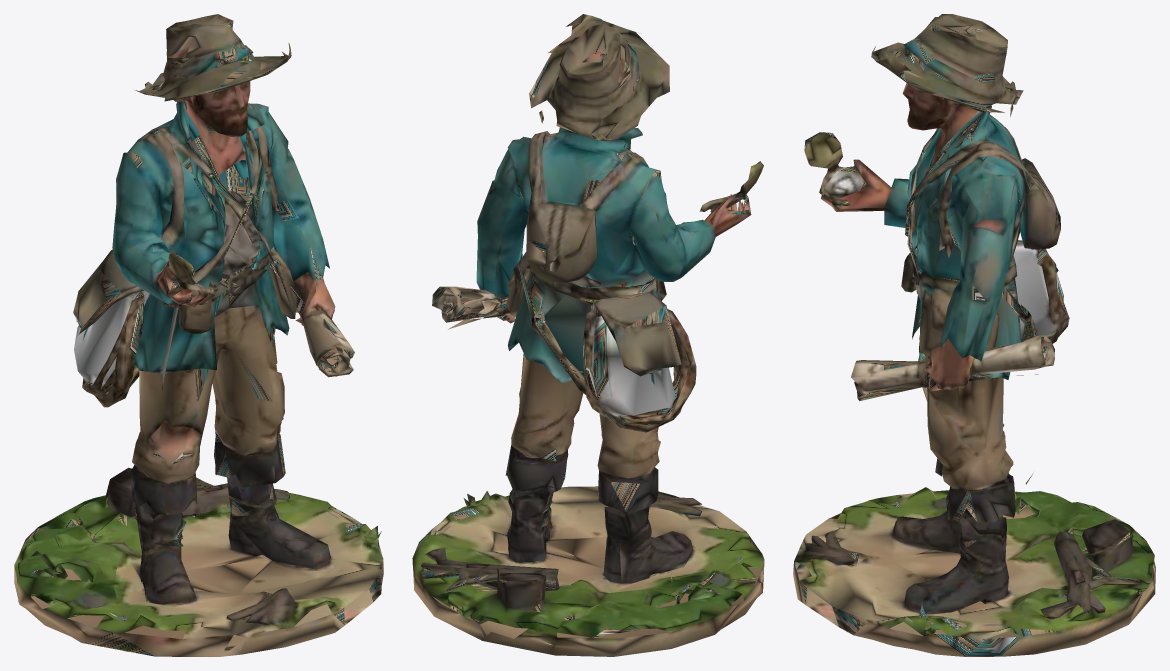
File: sw-explorer.glb
3 views of the same model, side by side, from view 1: azimuth 30°, elevation 25°; view 2: azimuth 150°, elevation 25°; view 3: azimuth 270°, elevation 25° (orthographic). The views are drawn at different scales.
Visible parts, largest first — view 1: geometry_0; view 2: geometry_0; view 3: geometry_0.
Part boxes in pixels (x1=…): geometry_0: x1=14, y1=14, x2=383, y2=656; geometry_0: x1=412, y1=14, x2=764, y2=656; geometry_0: x1=793, y1=14, x2=1155, y2=656.
Size of the model in its own units: 0.4861 by 0.8322 by 0.485.
Materials: 1 (1 with a texture image).
